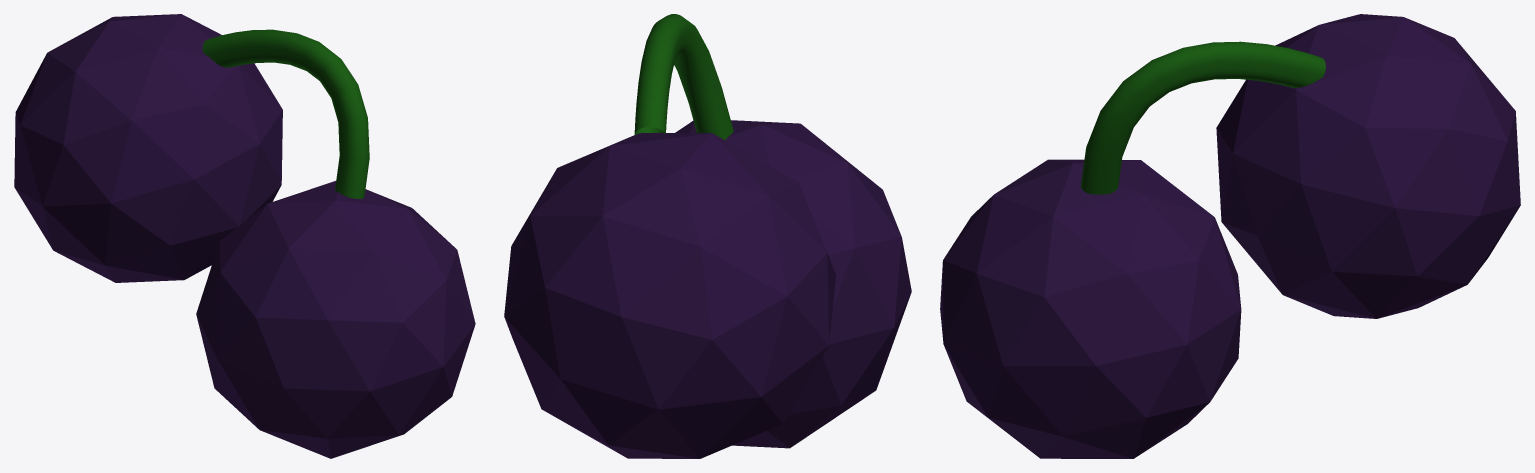
The model's file is jabuticaba.gltf.
3 renders of one model, left to right at view 1: azimuth 30°, elevation 25°; view 2: azimuth 150°, elevation 25°; view 3: azimuth 270°, elevation 25°, orthographic. The views are drawn at different scales.
Parts seen in each view (by area): view 1: Icosphere, Icosphere.001, BezierCurve; view 2: Icosphere.001, Icosphere, BezierCurve; view 3: Icosphere, Icosphere.001, BezierCurve.
Boxes of the visible parts, x1,y1,x2,y2 form: Icosphere: (196, 181, 475, 458); Icosphere.001: (14, 14, 282, 282); BezierCurve: (202, 29, 369, 198); Icosphere.001: (504, 132, 835, 458); Icosphere: (675, 120, 911, 448); BezierCurve: (634, 14, 733, 139); Icosphere: (940, 159, 1241, 458); Icosphere.001: (1216, 14, 1520, 318); BezierCurve: (1081, 41, 1325, 194).
Bounding box in the file's own units: 2.5 × 2.9 × 3.68.
